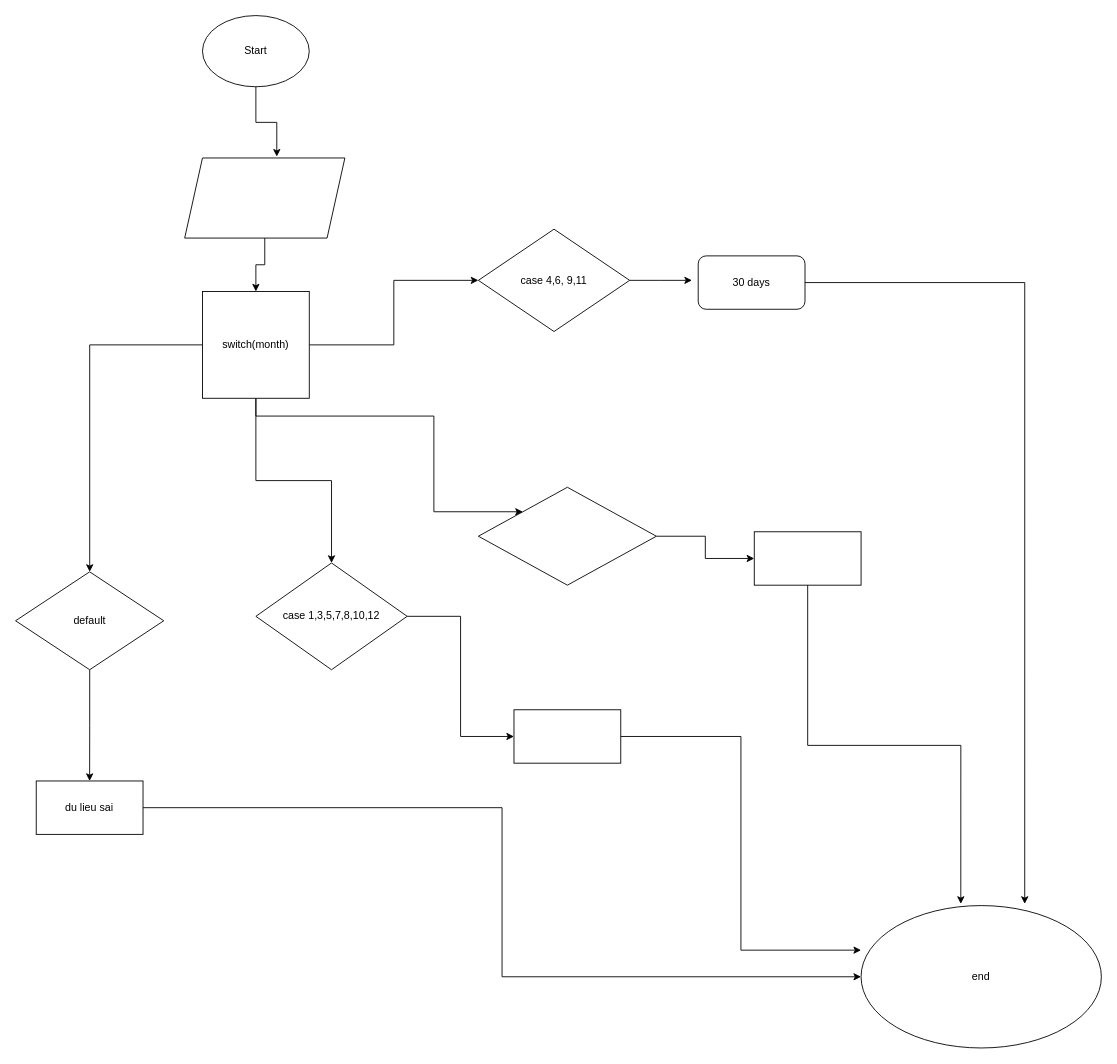
The diagram is 1117 pixels wide and 1064 high, and some of its shapes have lost their labels. Here are the shapes that lost their labels. From the top down, the centre of each, then its label:
[264,197]: year,month
[566,535]: case 2
[807,558]: 28days
[567,736]: 31 days
